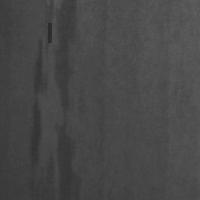inclusion: (27, 1, 82, 199), (47, 21, 51, 44)
